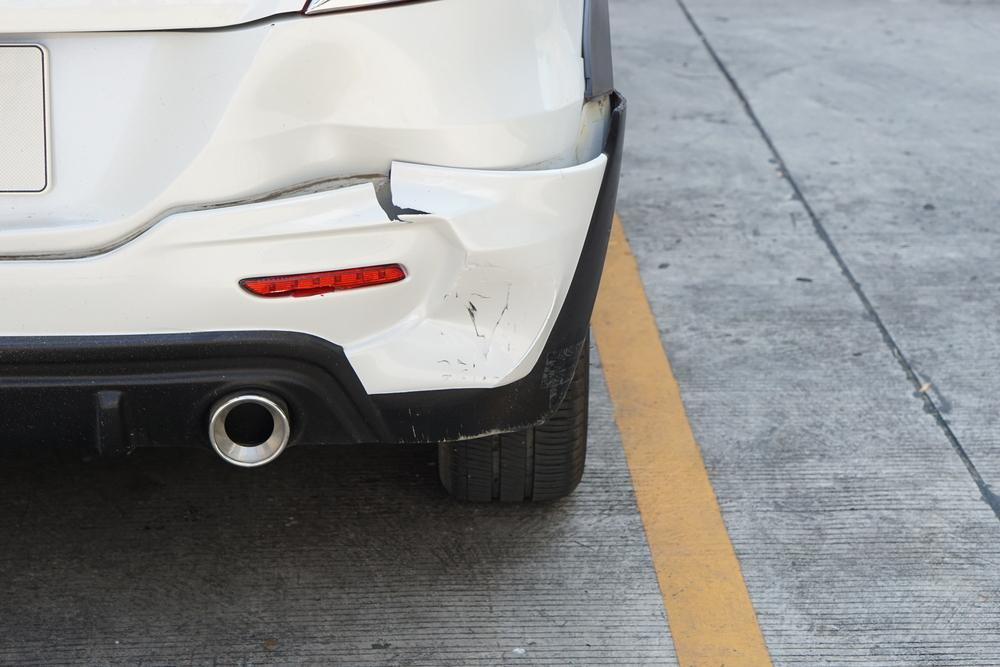crack: (372, 175, 436, 223)
dent: (245, 23, 446, 175), (389, 224, 553, 379)
